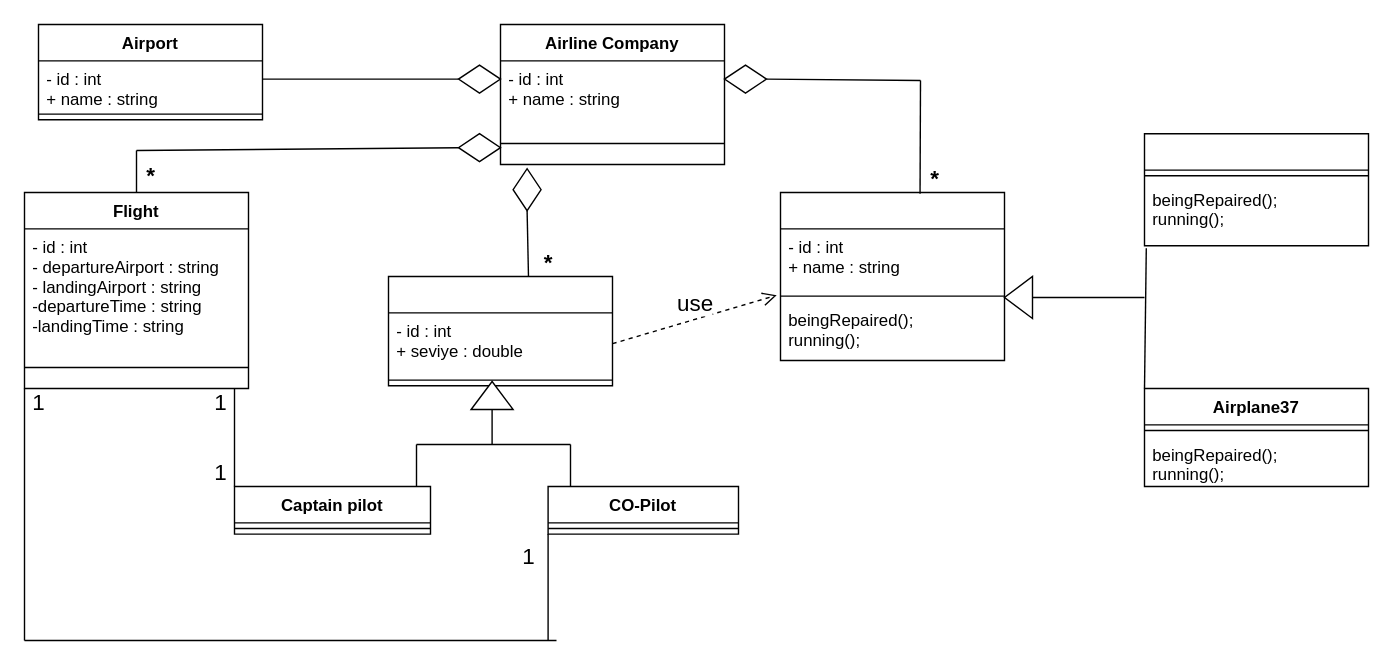
The diagram is 1393 pixels wide and 666 high, and some of its shapes have lost their labels. Here are the shapes that lost their labels. From the top down, the box of each, then its label:
(1143, 132, 1368, 246): Airplane21
(779, 191, 1004, 360): Airplane
(387, 275, 612, 386): Pilot
